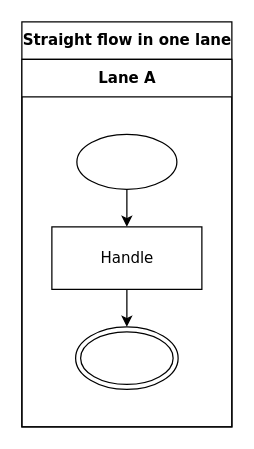
Image size: 254x449. Some labels were removed from this diagram. The box of each missing label's shape, as (x1, y1, x2, y2) in pixels:
Done: (74, 326, 178, 389)
Start: (76, 133, 177, 189)
